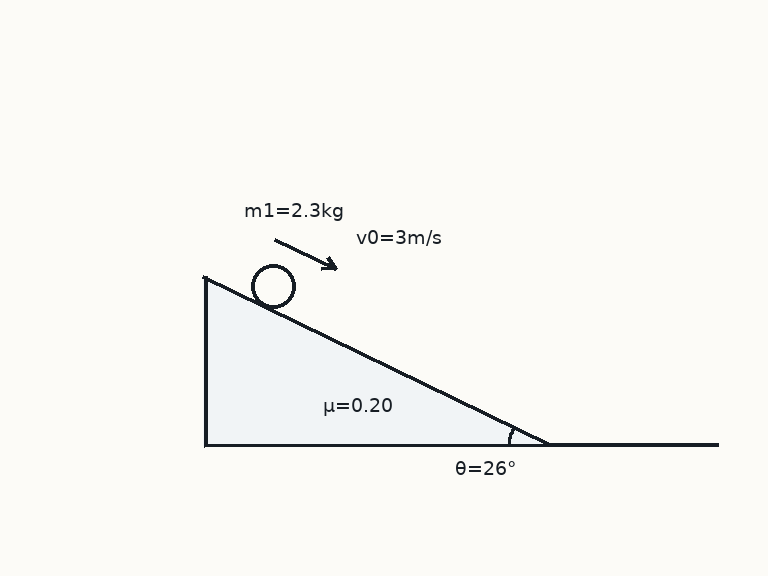ball: (249, 262, 297, 310)
ramp: (202, 275, 551, 447)
